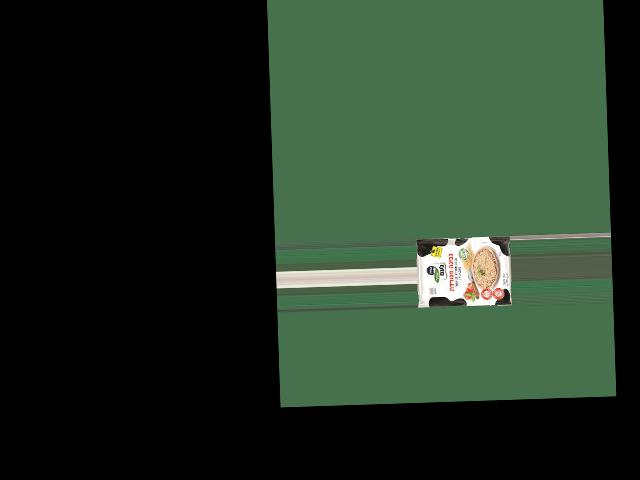cheese: (423, 234, 508, 319)
